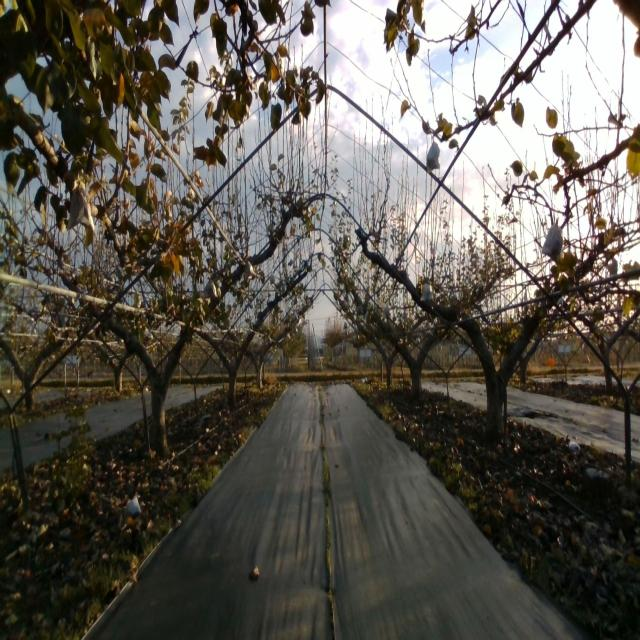pearbags: (66, 181, 95, 230), (542, 218, 563, 262), (426, 137, 440, 175), (203, 278, 218, 300), (420, 281, 433, 302), (243, 260, 254, 282)
